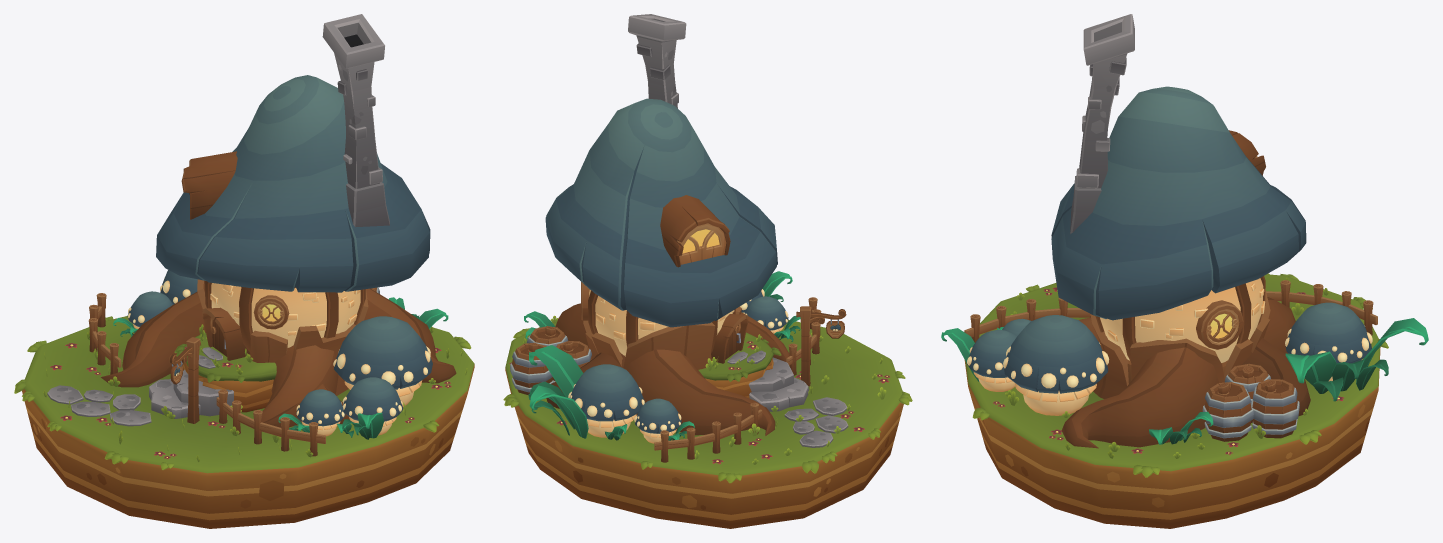
The model's file is mushroom.glb.
3 renders of one model, left to right at view 1: azimuth 30°, elevation 25°; view 2: azimuth 150°, elevation 25°; view 3: azimuth 270°, elevation 25°, orthographic. The views are drawn at different scales.
Parts seen in each view (by area): view 1: House, Base, Mushroom.002, Fence, Mushroom.003, Grass, Mushroom.004, Sign, Fence.001, Rocks.002, Rocks, Mushroom.001 (+4 smaller); view 2: House, Base, Mushroom, Leaf.005, Fence.001, Mushroom.001, Grass, Barriel.002, Sign, Rocks, Mushroom.004, Rocks.002 (+4 smaller); view 3: House, Base, Mushroom.002, Mushroom, Leaf.005, Barriel.001, Barriel.002, Mushroom.003, Fence, Fence.001, Grass, Barriel (+1 smaller).
Part boxes in pixels (<box>): House: <box>101,14,456,427</box>; Base: <box>14,316,474,528</box>; Mushroom.002: <box>333,316,432,406</box>; Fence: <box>216,389,325,456</box>; Mushroom.003: <box>342,377,403,435</box>; Grass: <box>43,324,467,461</box>; Mushroom.004: <box>296,389,345,436</box>; Sign: <box>169,337,200,423</box>; Fence.001: <box>88,293,121,374</box>; Rocks.002: <box>173,369,233,416</box>; Rocks: <box>149,379,200,418</box>; Mushroom.001: <box>127,291,173,328</box>; House: <box>545,14,789,435</box>; Base: <box>503,319,912,528</box>; Mushroom: <box>568,364,645,437</box>; Leaf.005: <box>528,345,588,438</box>; Fence.001: <box>654,402,762,462</box>; Mushroom.001: <box>634,398,681,443</box>; Grass: <box>509,315,889,464</box>; Barriel.002: <box>510,342,553,395</box>; Sign: <box>796,306,846,386</box>; Rocks: <box>749,377,808,411</box>; Mushroom.004: <box>744,296,788,333</box>; Rocks.002: <box>748,357,793,391</box>; House: <box>1051,14,1310,448</box>; Base: <box>964,273,1388,528</box>; Mushroom.002: <box>1003,315,1109,415</box>; Mushroom: <box>1285,302,1372,381</box>; Leaf.005: <box>1285,318,1428,401</box>; Barriel.001: <box>1202,382,1253,441</box>; Barriel.002: <box>1251,379,1299,438</box>; Mushroom.003: <box>966,330,1016,391</box>; Fence: <box>964,298,1090,342</box>; Fence.001: <box>1266,280,1377,335</box>; Grass: <box>993,277,1344,458</box>; Barriel: <box>1224,363,1270,422</box>.
Size of the model in its own units: 3.01 by 3.02 by 2.97.
1 material, 1 textured.
